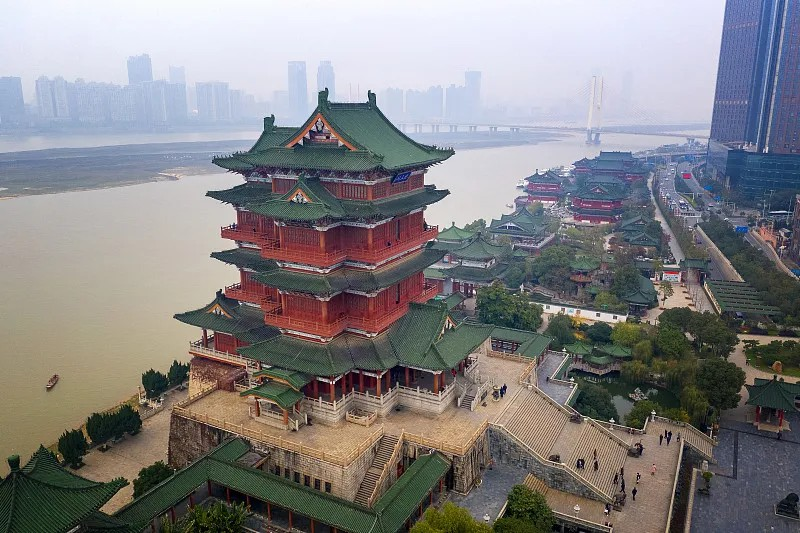Teng: (173, 89, 497, 396)
